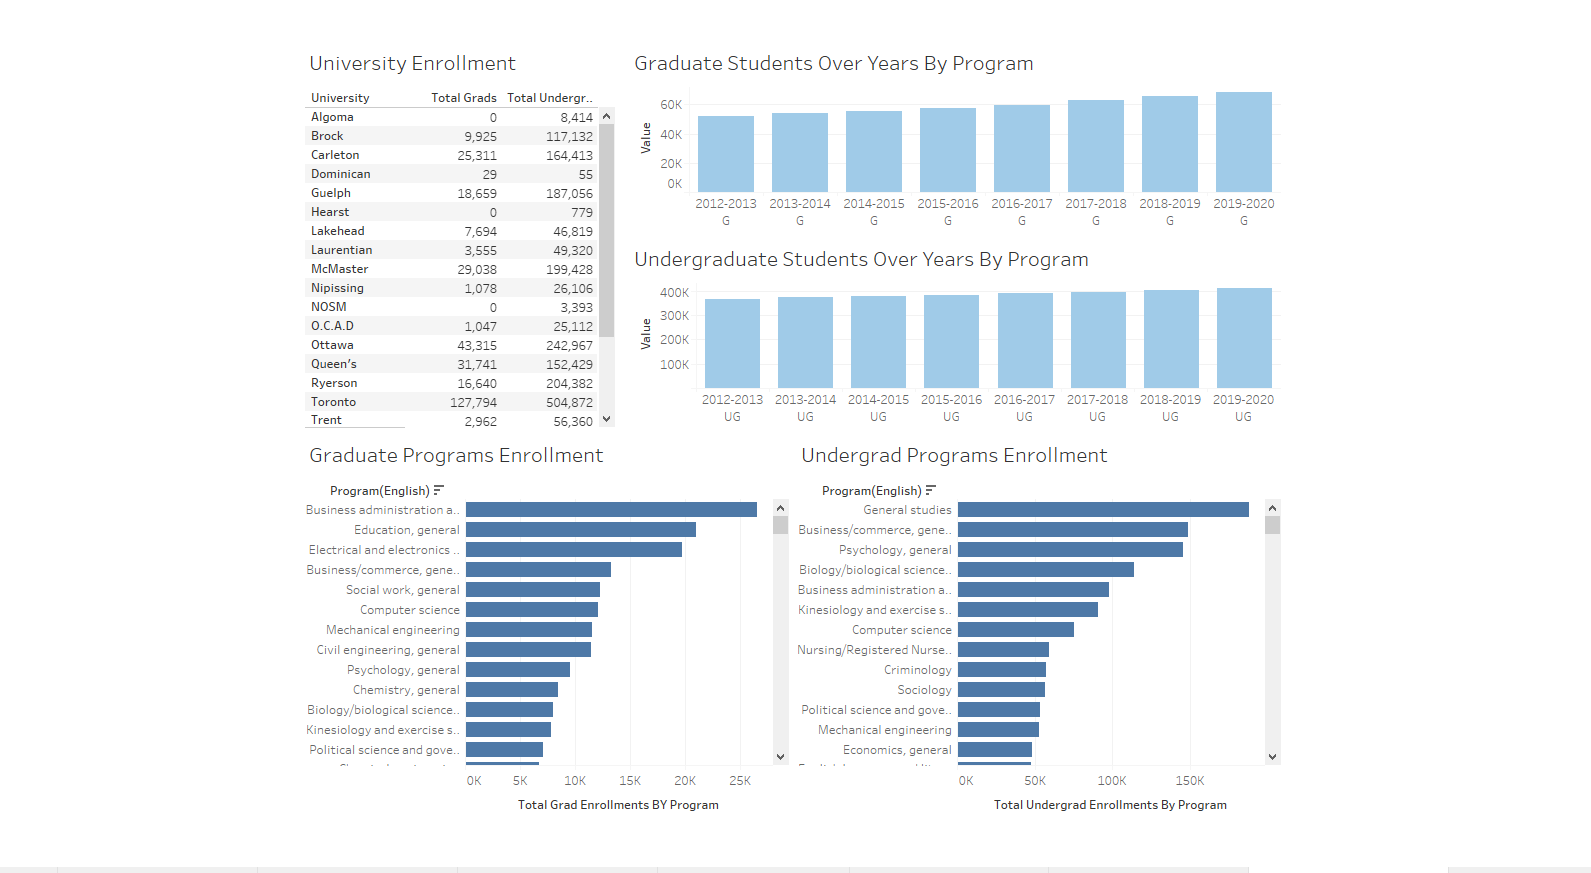

The dashboard page shown, as its layout file describes it:
{"tool":"tableau","page":{"name":"Enrollment by Program and University","canvas":[1000,800],"ordinal":1},"visuals":[{"type":"worksheet","title":"University Enrollment","mark":"Automatic","box":[8,8,325,392]},{"type":"worksheet","title":"Graduate Students Over Years By Program","mark":"Automatic","box":[333,8,659,196]},{"type":"worksheet","title":"Undergraduate Students Over Years By Program","mark":"Automatic","box":[333,204,659,196]},{"type":"worksheet","title":"Graduate Programs Enrollment","mark":"Automatic","rows":["F3"],"cols":["Calculation_739997763011649536"],"box":[8,400,492,392]},{"type":"worksheet","title":"Undergrad Programs Enrollment","mark":"Automatic","rows":["F3"],"cols":["Calculation_739997763034300417"],"box":[500,400,492,392]}]}

Visuals, with their boxes on the page's 1000x800 design canvas (x1, y1, x2, y2). These are canvas units, not pixel positions in the 1591x873 screenshot, which may show the page scaled, cropped or inside an application window:
"University Enrollment" worksheet: 8:8:333:400
"Graduate Students Over Years By Program" worksheet: 333:8:992:204
"Undergraduate Students Over Years By Program" worksheet: 333:204:992:400
"Graduate Programs Enrollment" worksheet: 8:400:500:792
"Undergrad Programs Enrollment" worksheet: 500:400:992:792
